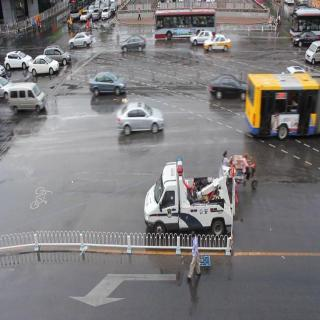BigCar: (244, 68, 320, 144), (152, 10, 220, 43), (292, 5, 320, 48)
Car: (137, 162, 241, 251), (114, 98, 171, 144), (206, 65, 248, 104), (82, 62, 128, 93), (11, 80, 46, 119), (26, 54, 64, 78), (1, 49, 35, 73), (68, 26, 97, 54), (204, 31, 236, 56), (42, 47, 78, 67), (188, 26, 215, 47), (122, 34, 147, 52), (307, 37, 320, 68), (0, 76, 14, 104)
